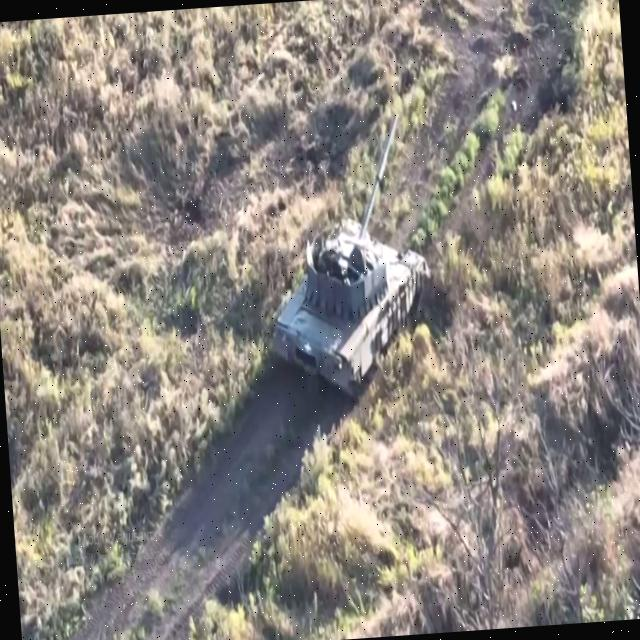MBT: (256, 107, 441, 408)
